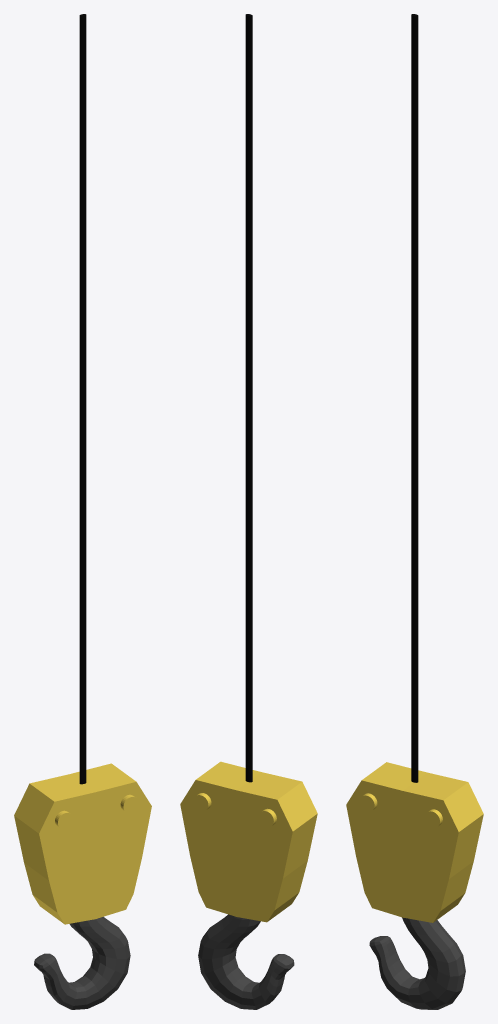
The model's file is hookcolor.fbx.
The picture shows the model from 3 angles, left to right: view 1: azimuth 30°, elevation 25°; view 2: azimuth 150°, elevation 25°; view 3: azimuth 330°, elevation 25°; orthographic projection.
Visible parts, largest first — view 1: Cube.001, Cylinder.001, Cube; view 2: Cube.001, Cylinder.001, Cube; view 3: Cube.001, Cylinder.001, Cube.
Part boxes in pixels (bbox=[...]): Cube.001: bbox=[14, 763, 151, 924]; Cylinder.001: bbox=[79, 14, 86, 784]; Cube: bbox=[34, 916, 130, 1009]; Cube.001: bbox=[180, 761, 317, 922]; Cylinder.001: bbox=[245, 14, 252, 782]; Cube: bbox=[198, 914, 294, 1009]; Cube.001: bbox=[346, 762, 483, 922]; Cylinder.001: bbox=[411, 14, 418, 782]; Cube: bbox=[369, 917, 465, 1009].
Bounding box in the file's own units: 209 × 1765 × 99.21.
